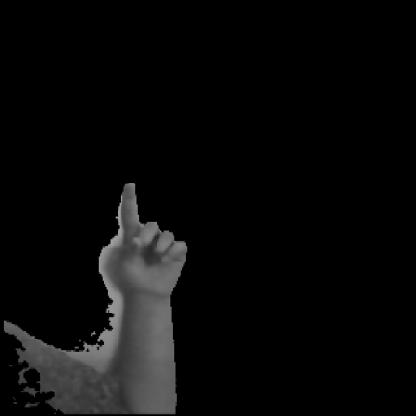one: (70, 159, 202, 340)
